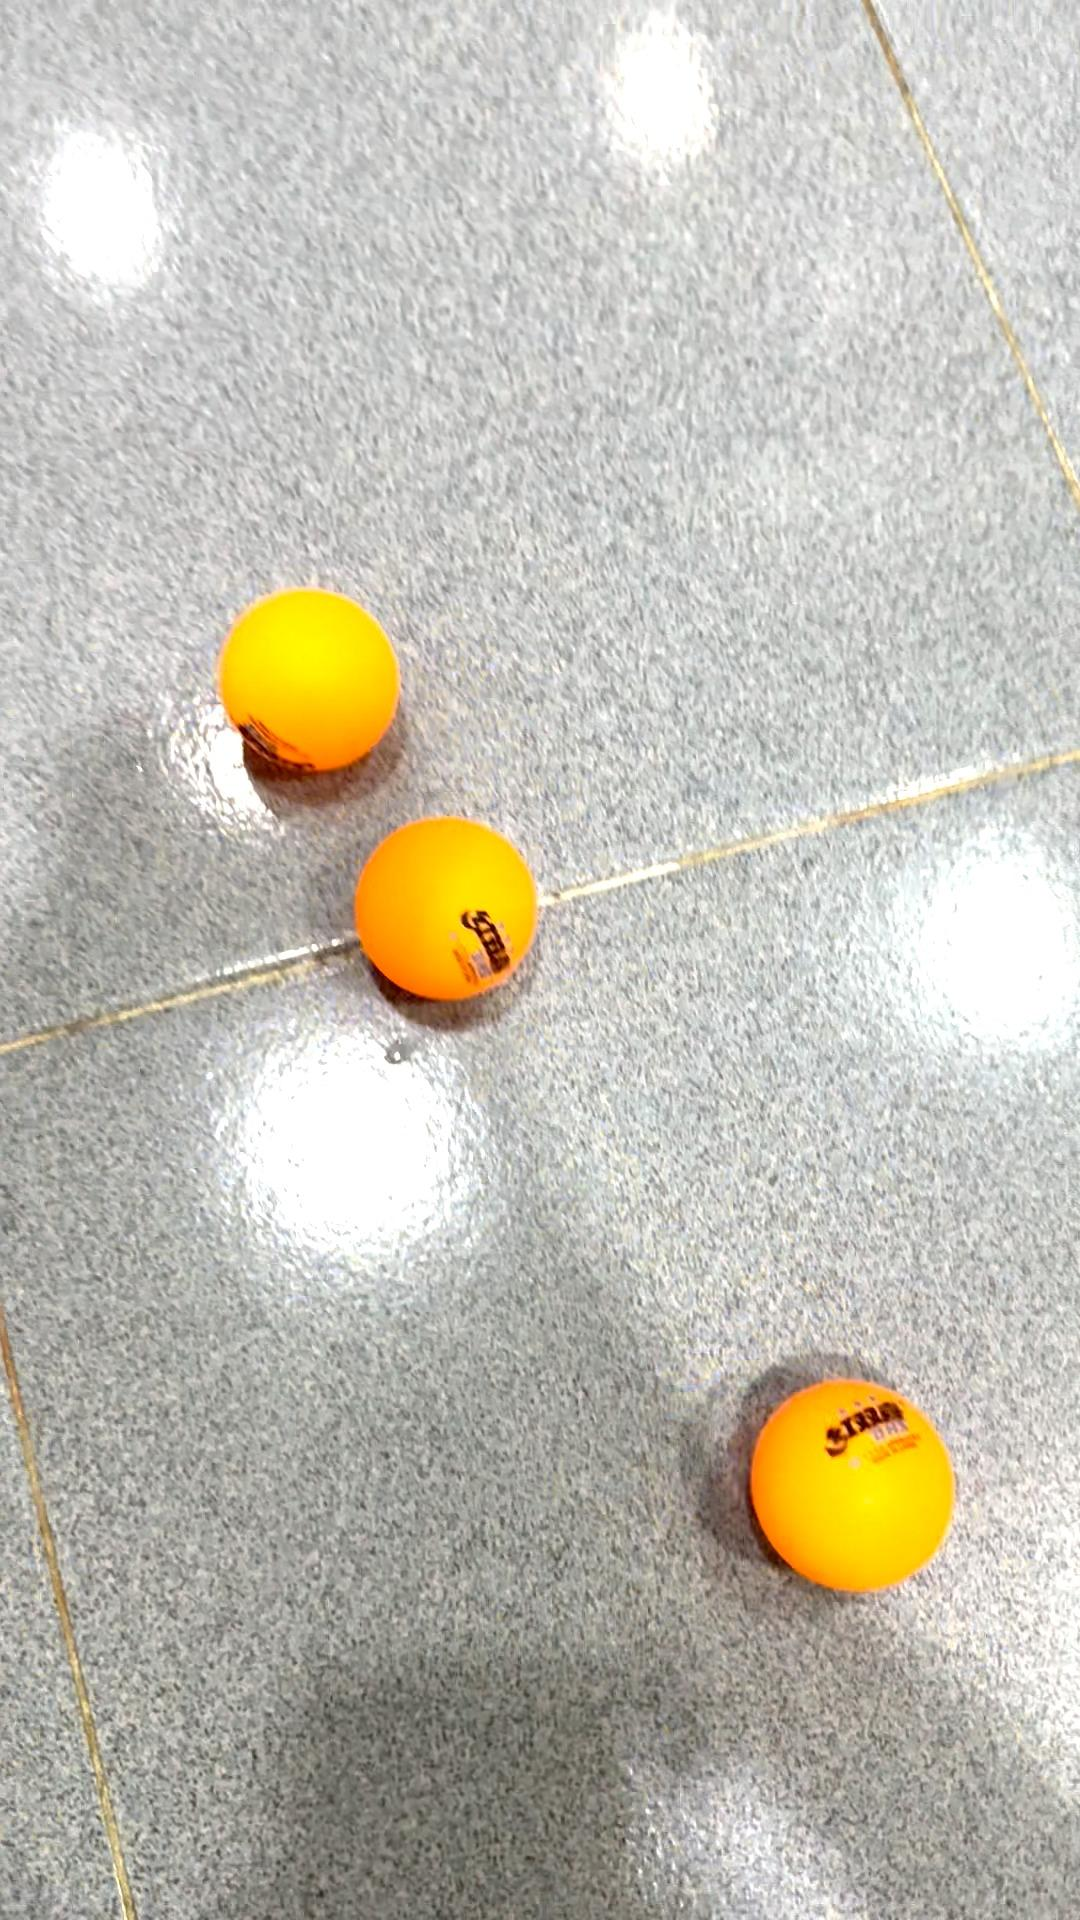oball: (752, 1361, 967, 1594), (352, 818, 542, 1013), (215, 578, 400, 775)
